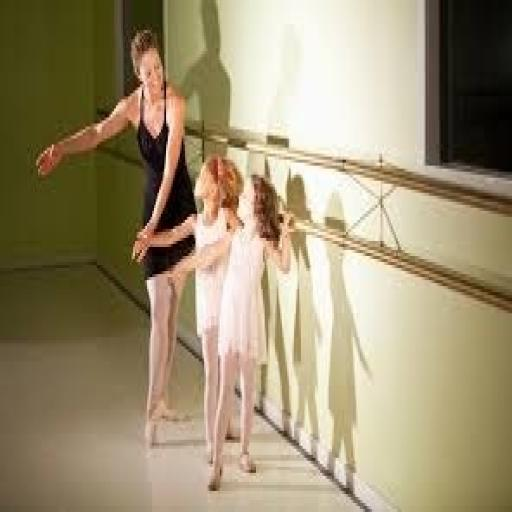dancing: (33, 24, 199, 449)
